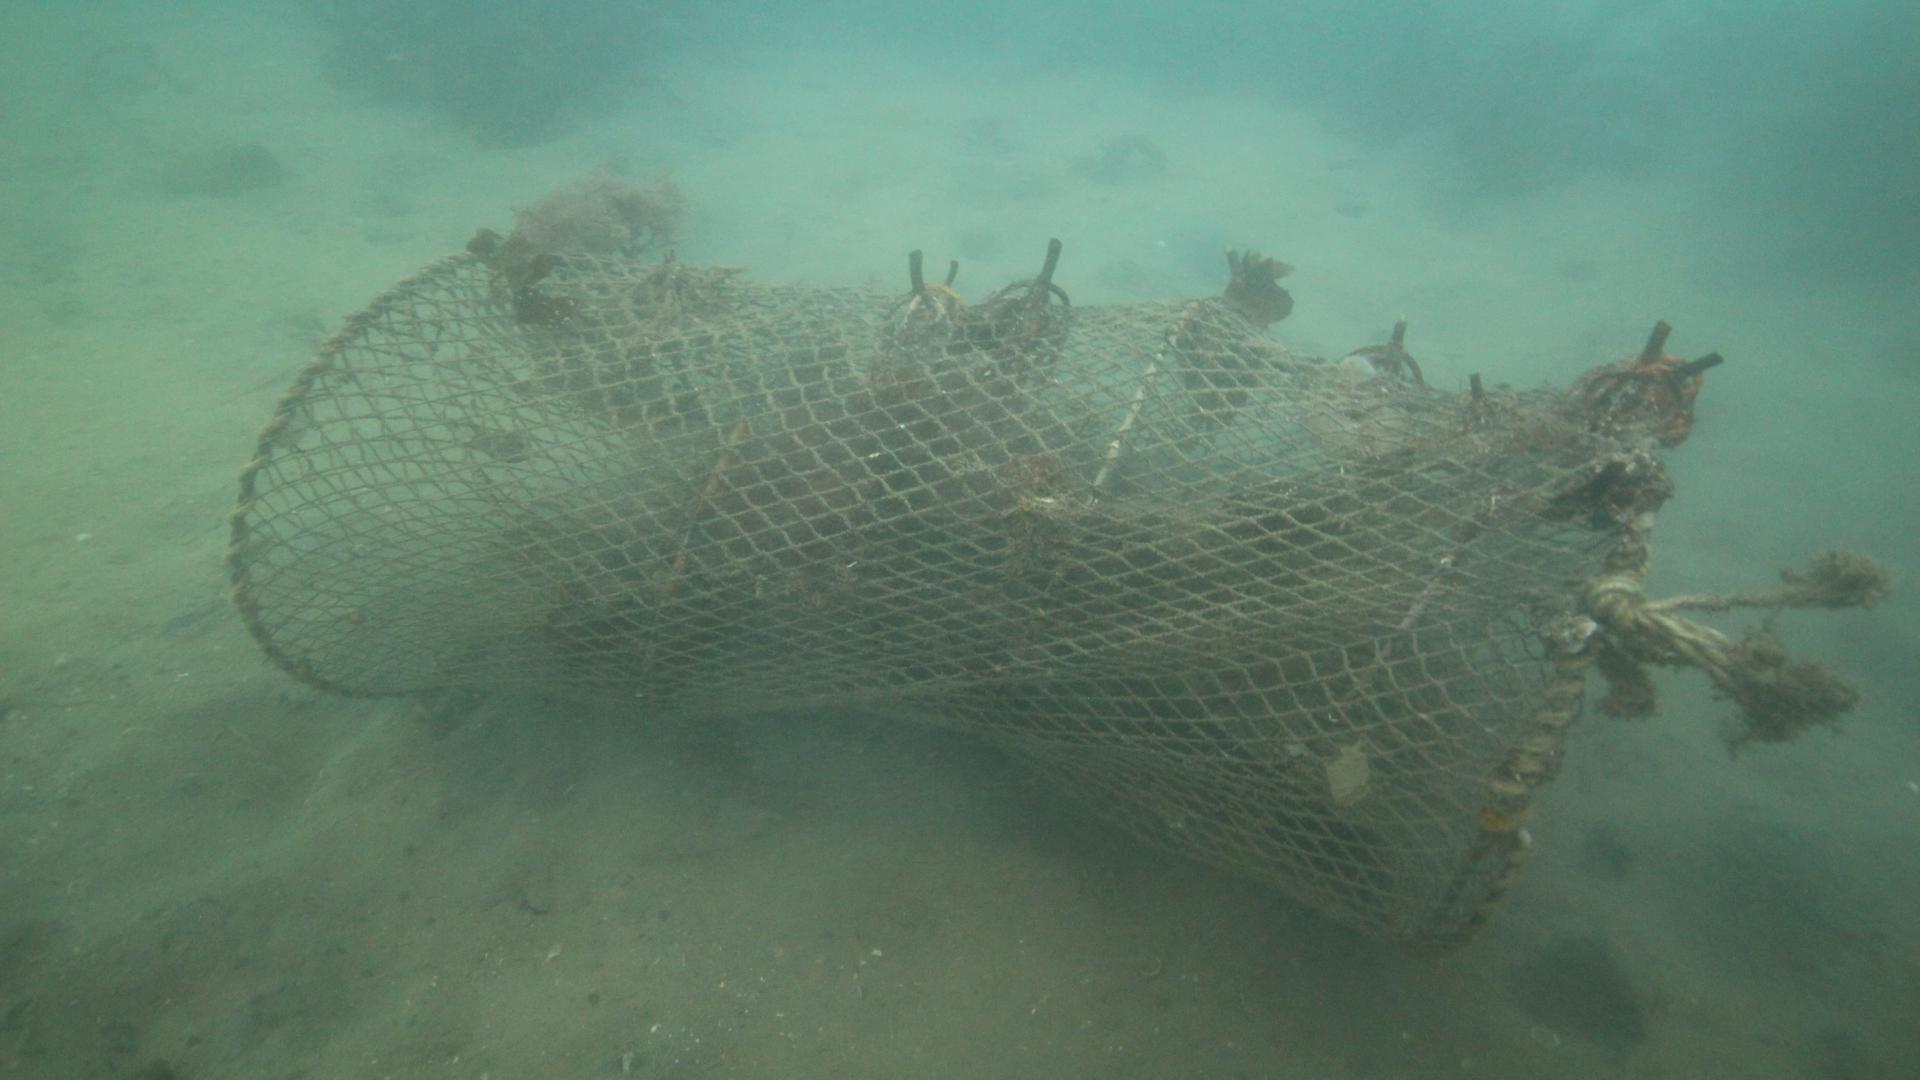bundle of ropes: (1604, 556, 1876, 742)
spring fish trap: (222, 223, 1721, 971)
